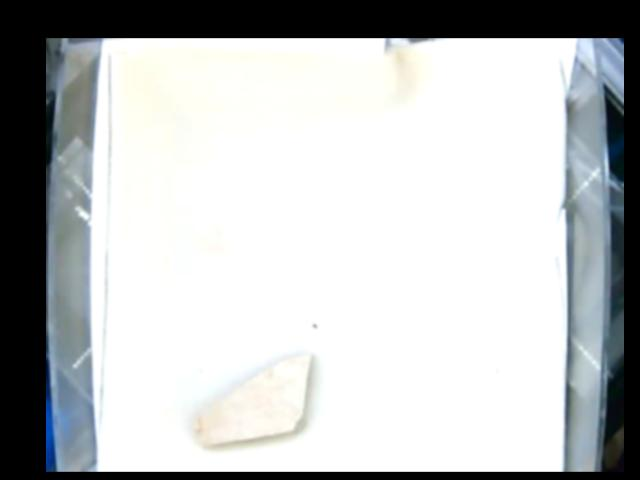China: (196, 351, 308, 443)
